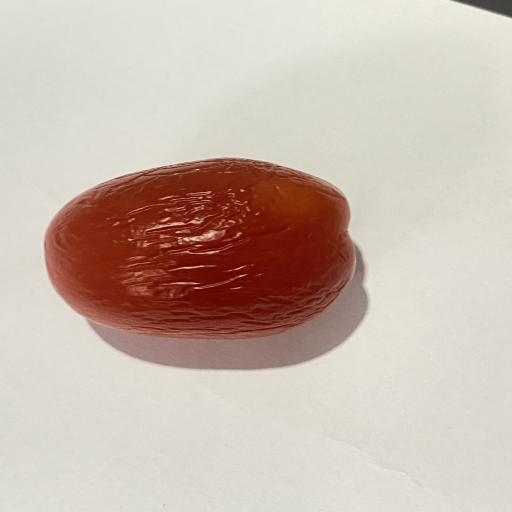spoiled: (45, 158, 355, 339)
